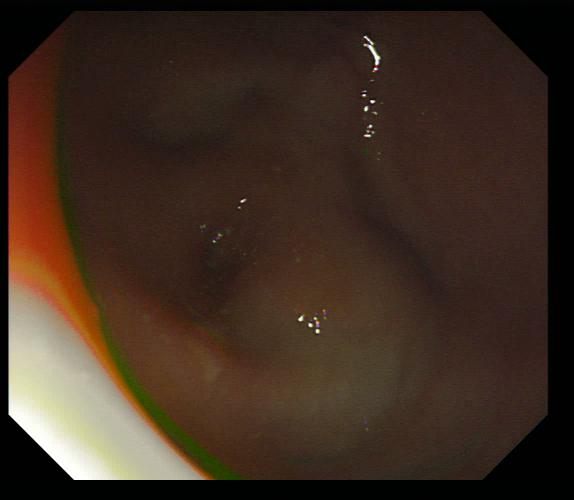polyp: (221, 224, 442, 373)
